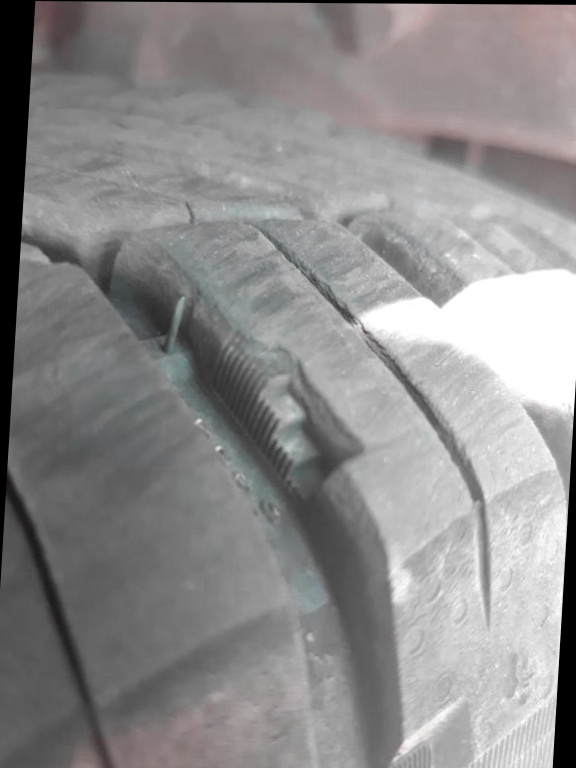temoin:80: (193, 322, 380, 520)
